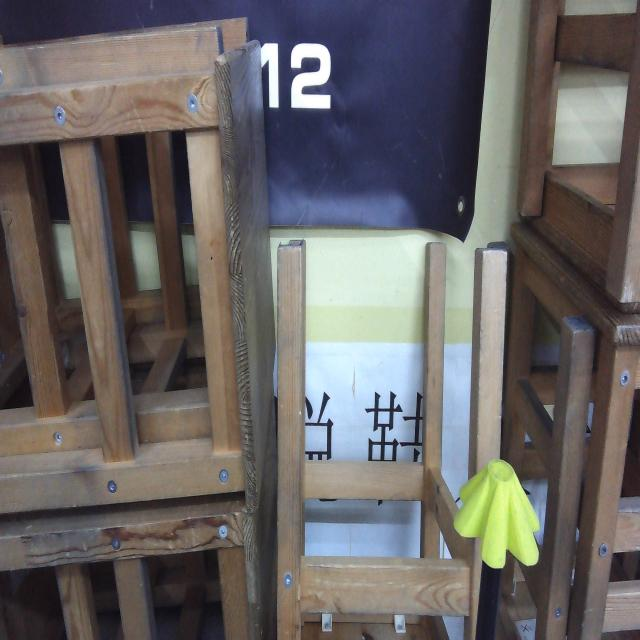Yellow-Stake-Head: (453, 459, 540, 570)
